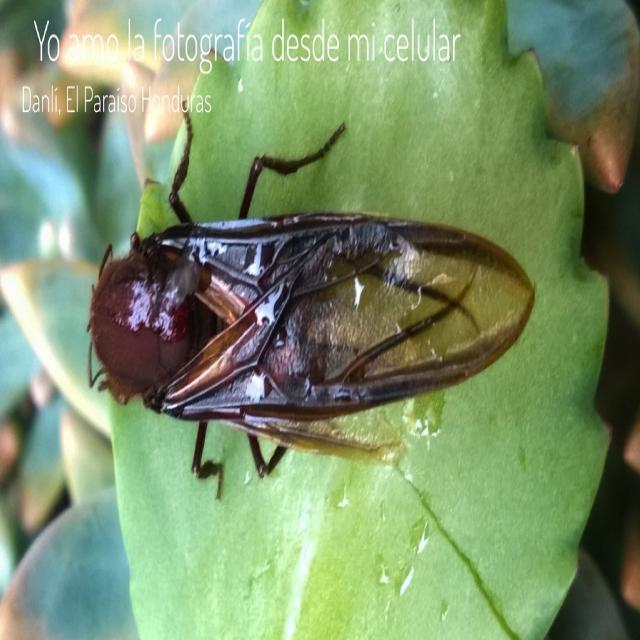Alive-Female-Alate: (86, 99, 535, 502)
